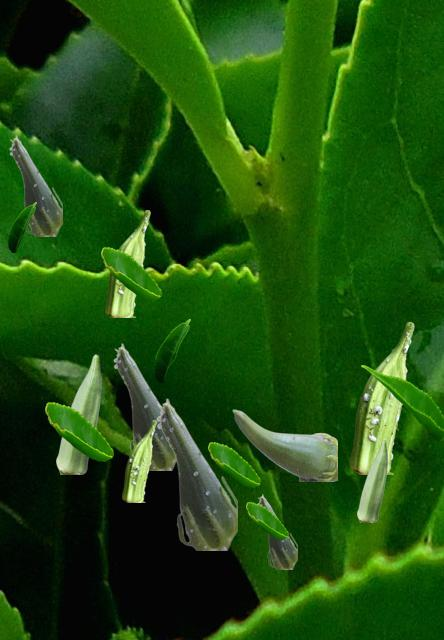okra: (156, 398, 236, 549), (350, 322, 413, 473), (113, 343, 175, 469), (232, 409, 336, 480), (56, 354, 100, 473), (9, 135, 61, 235), (105, 210, 149, 316), (257, 494, 296, 568), (122, 420, 155, 501), (357, 440, 386, 521)
